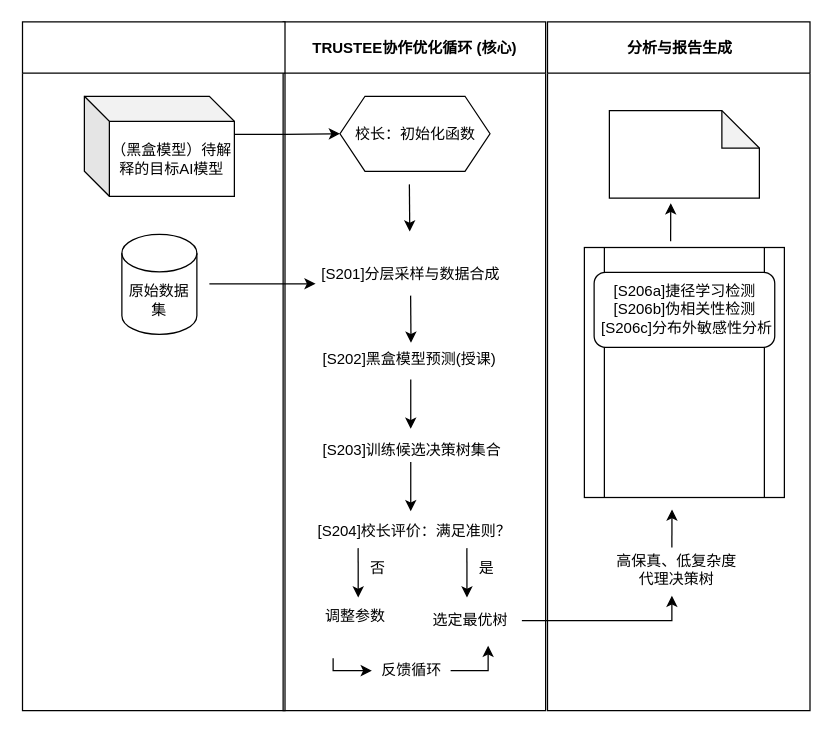
This 831x733 diagram has some shape labels left out. Each missing label, with the box of its shape:
[S205]归纳偏差自动化分析引擎: (583, 246, 784, 498)
[S207]生成 <<结构化信任报告>>: (608, 109, 759, 198)
输入与数据: (21, 21, 285, 711)
